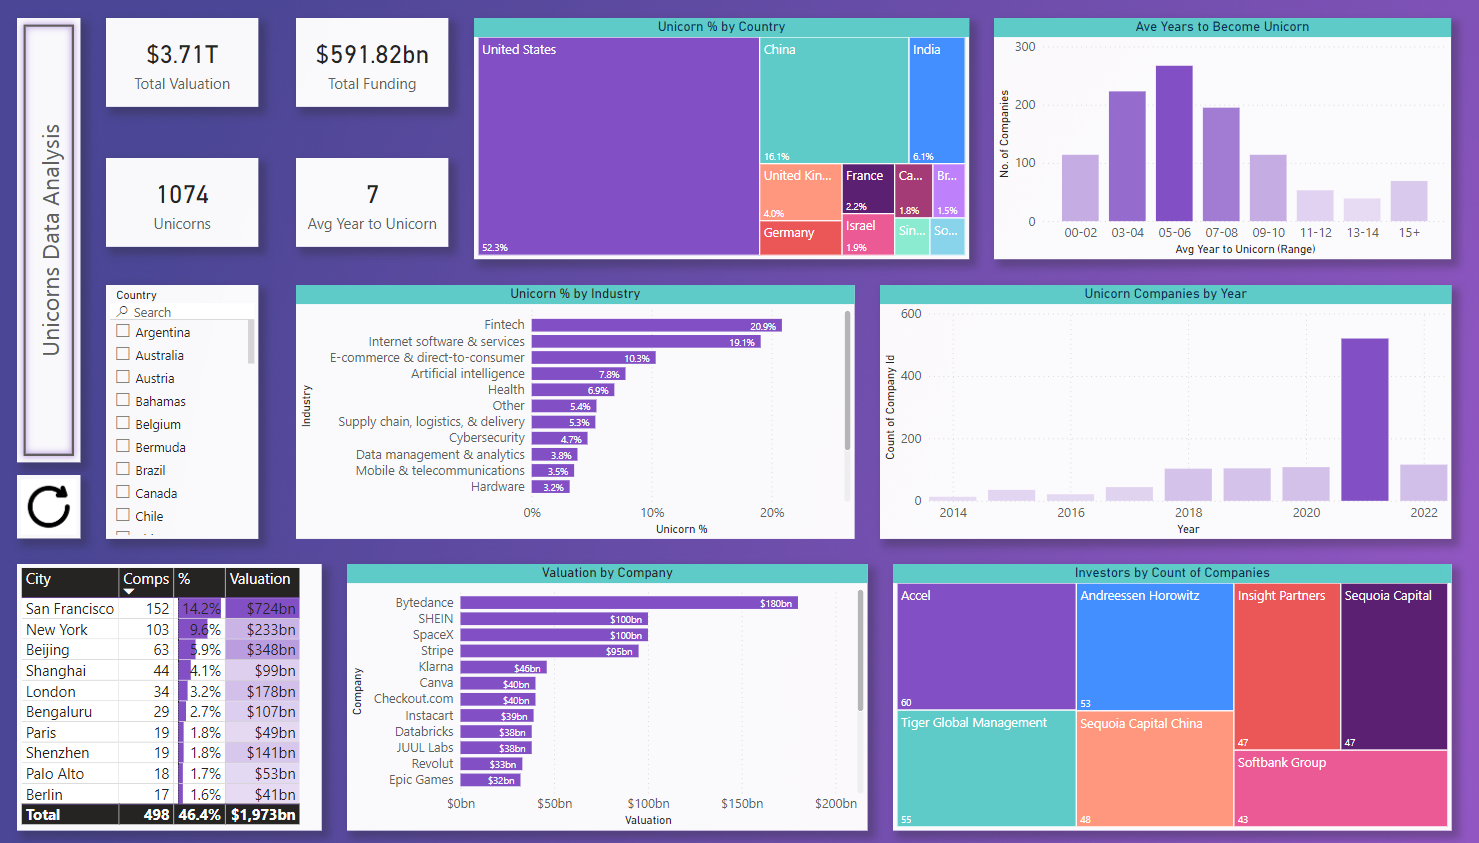

This screenshot's page, from the dashboard's own definition file:
{"tool":"powerbi","page":{"name":"Unicorn Dashboard","canvas":[1850,1080],"ordinal":0},"visuals":[{"type":"barChart","fields":{"Category":["Unicorns.Industry"],"Y":["Unicorns.Unicorn %"]},"box":[368,368,704,320],"z":0},{"type":"treemap","title":"Investors by Count of Companies","fields":{"Group":["Investors.Select Investors"],"Values":["CountNonNull(Investors.Company Id)"]},"box":[1120,720,704,336],"z":1000},{"type":"tableEx","fields":{"Values":["Unicorns.City","Unicorns.Company","Unicorns.Unicorn %","Sum(Unicorns.Valuation)"]},"box":[16,720,384,336],"z":2000},{"type":"treemap","fields":{"Group":["Unicorns.Country"],"Values":["Unicorns.Unicorn %"]},"box":[592,32,624,304],"z":3000},{"type":"clusteredBarChart","fields":{"Category":["Unicorns.Company"],"Y":["Avg(Unicorns.Valuation)"]},"box":[432,720,656,336],"z":4000},{"type":"slicer","fields":{"Values":["Unicorns.Country"]},"box":[128,368,192,320],"z":5000},{"type":"card","fields":{"Values":["Sum(Unicorns.Valuation)"]},"box":[128,32,192,112],"z":6000},{"type":"card","fields":{"Values":["Sum(Unicorns.Funding)"]},"box":[368,32,192,112],"z":7000},{"type":"card","fields":{"Values":["CountNonNull(Unicorns.Company Id)"]},"box":[128,208,192,112],"z":8000},{"type":"card","fields":{"Values":["Unicorns.Avg Year to Unicorn"]},"box":[368,208,192,112],"z":9000},{"type":"actionButton","box":[16,32,80,560],"z":10000},{"type":"columnChart","title":"Unicorn Companies by Year","fields":{"Category":["Unicorns.Date Joined.Variation.Date Hierarchy.Year"],"Y":["CountNonNull(Unicorns.Company Id)"]},"box":[1104,368,720,320],"z":11000},{"type":"columnChart","title":"Ave Years to Become Unicorn","fields":{"Category":["Unicorns.Avg Year to Unicorn"],"Y":["CountNonNull(Unicorns.Company Id)"]},"box":[1248,32,576,304],"z":12000},{"type":"image","box":[16,608,80,80],"z":13000}]}

Visuals, with their boxes in screenshot pixels (x1, y1, x2, y2), scaled from the page's 1850x1080 canvas onto the 1479x843 screenshot:
barChart - Unicorns.Industry x Unicorns.Unicorn %: <box>294,287,857,537</box>
"Investors by Count of Companies" treemap: <box>895,562,1458,824</box>
tableEx - Unicorns.City x Unicorns.Company: <box>13,562,320,824</box>
treemap - Unicorns.Country x Unicorns.Unicorn %: <box>473,25,972,262</box>
clusteredBarChart - Unicorns.Company x Avg(Unicorns.Valuation): <box>345,562,870,824</box>
slicer - Unicorns.Country: <box>102,287,256,537</box>
card - Sum(Unicorns.Valuation): <box>102,25,256,112</box>
card - Sum(Unicorns.Funding): <box>294,25,448,112</box>
card - CountNonNull(Unicorns.Company Id): <box>102,162,256,250</box>
card - Unicorns.Avg Year to Unicorn: <box>294,162,448,250</box>
actionButton: <box>13,25,77,462</box>
"Unicorn Companies by Year" columnChart: <box>883,287,1458,537</box>
"Ave Years to Become Unicorn" columnChart: <box>998,25,1458,262</box>
image: <box>13,475,77,537</box>
